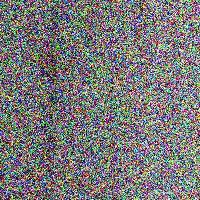inclusion: (28, 84, 60, 183), (33, 44, 64, 87), (47, 7, 64, 36)
